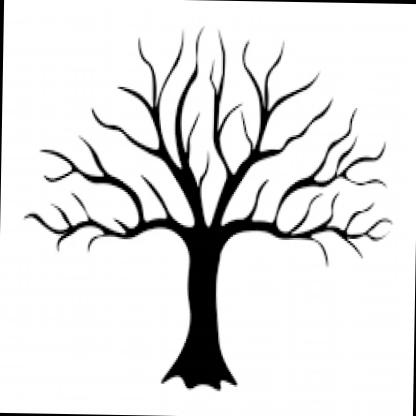branch_sharp: (25, 11, 396, 268)
root_only: (154, 358, 244, 397)
trunk_straight: (182, 270, 226, 342)
